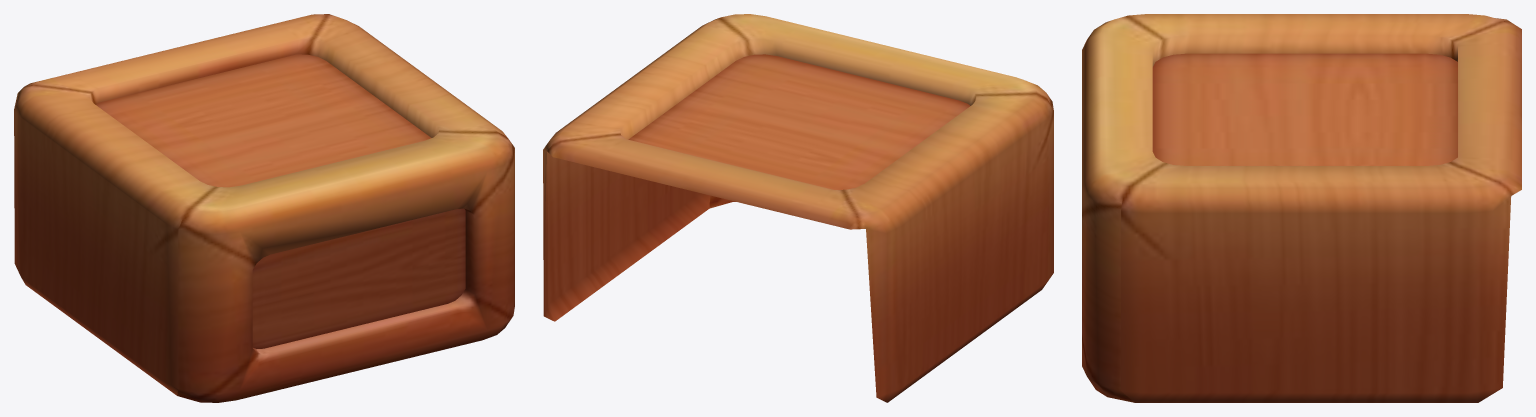
3 renders of one model, left to right at view 1: azimuth 30°, elevation 25°; view 2: azimuth 150°, elevation 25°; view 3: azimuth 270°, elevation 25°, orthographic. The views are drawn at different scales.
Visible parts, largest first — view 1: CarBox; view 2: CarBox; view 3: CarBox.
Boxes of the visible parts, <box> form: CarBox: <box>14,14,514,402</box>; CarBox: <box>543,14,1053,402</box>; CarBox: <box>1082,14,1521,402</box>.
Size of the model in its own units: 2.54 by 2.49 by 1.32.
